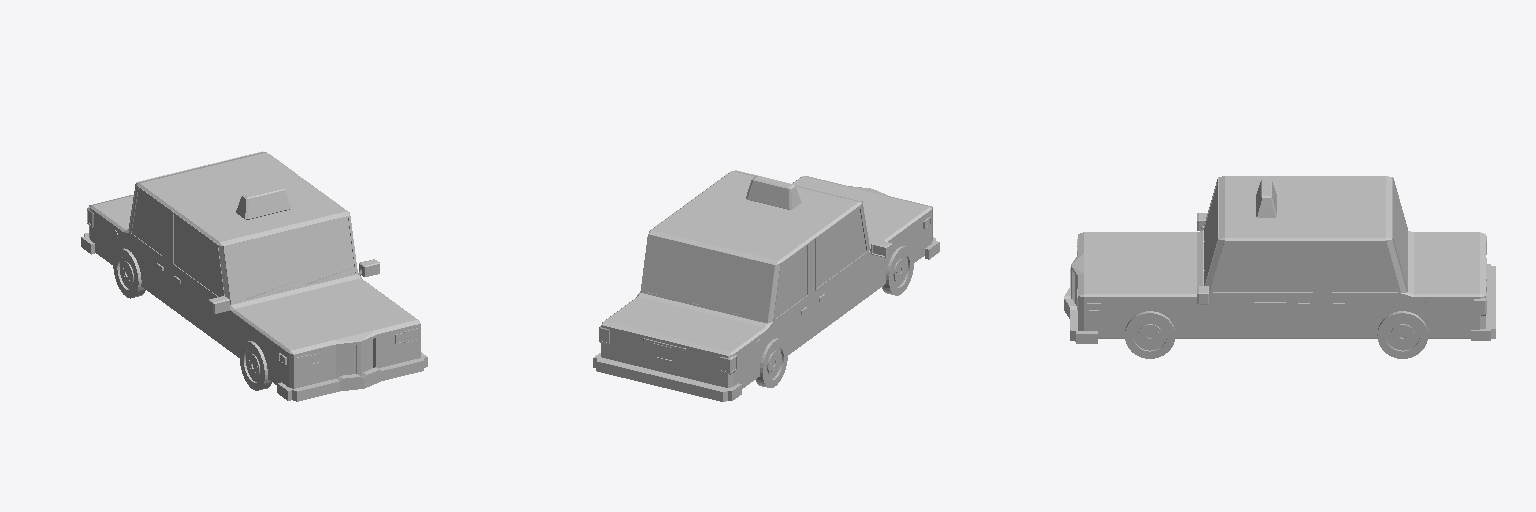
The model's file is Taxi.obj.
3 views of the same model, side by side, from view 1: azimuth 30°, elevation 25°; view 2: azimuth 150°, elevation 25°; view 3: azimuth 270°, elevation 25° (orthographic).
Parts seen in each view (by area): view 1: Car_Cube, TopSign_Cube.005, TireRearRight_Cylinder.011, TireFrontRight_Cylinder.012; view 2: Car_Cube, TopSign_Cube.005, TireRearRight_Cylinder.011, TireFrontRight_Cylinder.012; view 3: Car_Cube, TireRearLeft_Cylinder.010, TireFrontLeft_Cylinder, Logo_Cube.004, TopSign_Cube.005.
Boxes of the visible parts, box(x1,y1,x2,y2) form: Car_Cube: box(81, 151, 427, 401); TopSign_Cube.005: box(236, 186, 291, 219); TireRearRight_Cylinder.011: box(113, 248, 145, 298); TireFrontRight_Cylinder.012: box(240, 341, 271, 390); Car_Cube: box(593, 170, 939, 401); TopSign_Cube.005: box(746, 176, 801, 209); TireRearRight_Cylinder.011: box(756, 338, 787, 387); TireFrontRight_Cylinder.012: box(882, 246, 913, 295); Car_Cube: box(1064, 176, 1495, 343); TireRearLeft_Cylinder.010: box(1377, 311, 1427, 358); TireFrontLeft_Cylinder: box(1125, 311, 1174, 358); Logo_Cube.004: box(1254, 302, 1285, 329); TopSign_Cube.005: box(1256, 179, 1276, 217).
Size of the model in its own units: 3.12 by 2.46 by 7.